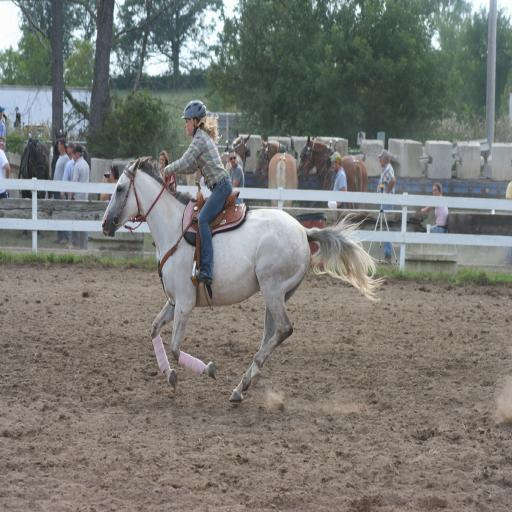horse: (102, 152, 388, 400), (298, 134, 364, 222), (252, 138, 300, 214), (220, 128, 252, 172)
